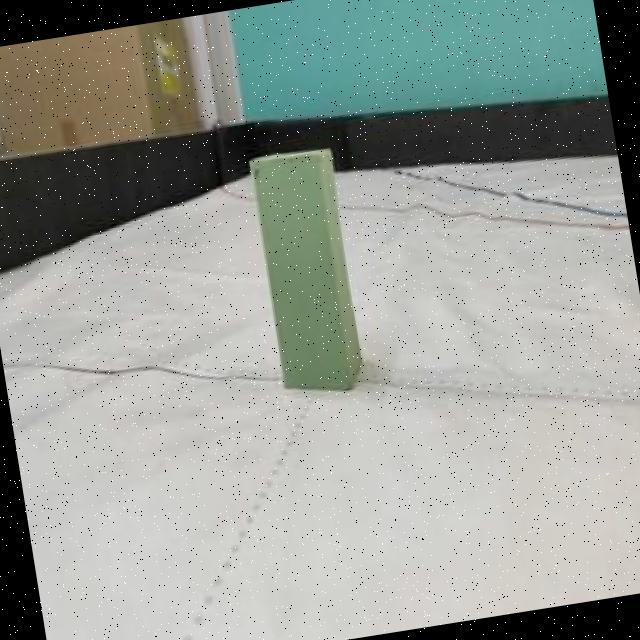greenbox: (251, 147, 367, 406)
